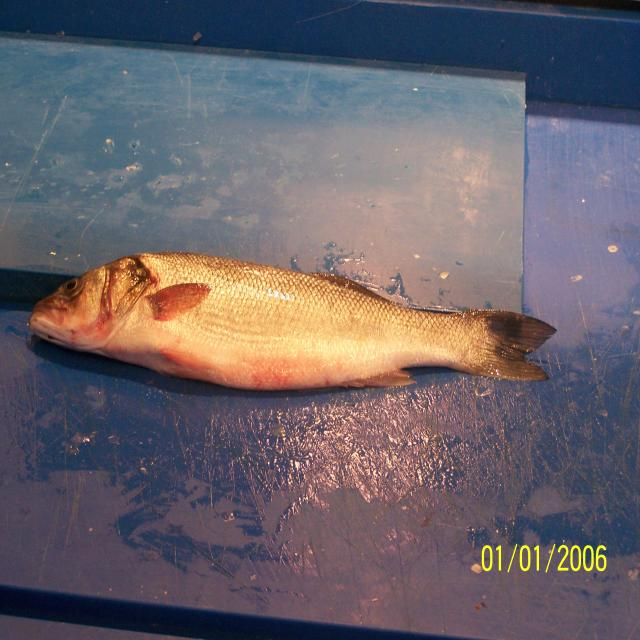Sea-Bass-levrek-: (29, 254, 557, 394)
